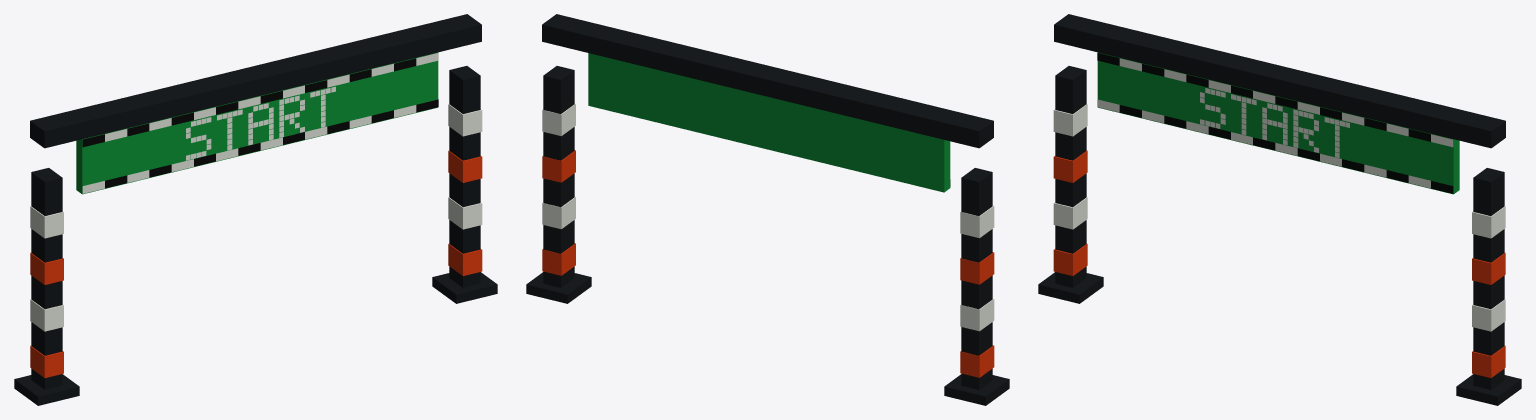
Rendered from gate_start.dae.
3 views of the same model, side by side, from view 1: azimuth 30°, elevation 25°; view 2: azimuth 150°, elevation 25°; view 3: azimuth 330°, elevation 25° (orthographic).
Parts seen in each view (by area): view 1: gate_start; view 2: gate_start; view 3: gate_start.
Boxes of the visible parts, x1,y1,x2,y2 form: gate_start: (14, 14, 497, 405); gate_start: (526, 14, 1009, 405); gate_start: (1038, 14, 1521, 405).
Bounding box in the file's own units: 6.2 × 0.56 × 3.46.
